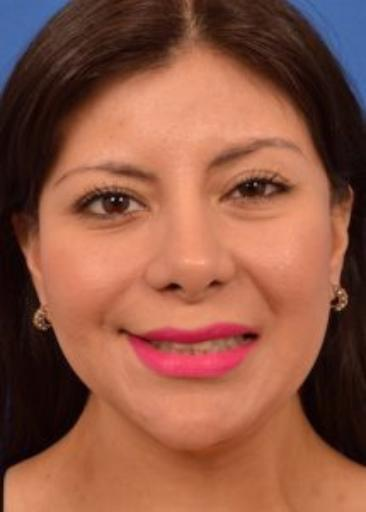left_eye: (220, 173, 297, 205)
left_lip_corner: (247, 325, 264, 350)
right_eye: (68, 186, 152, 220)
right_lip_corner: (110, 319, 137, 343)
